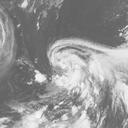cyclone: (46, 36, 111, 93)
